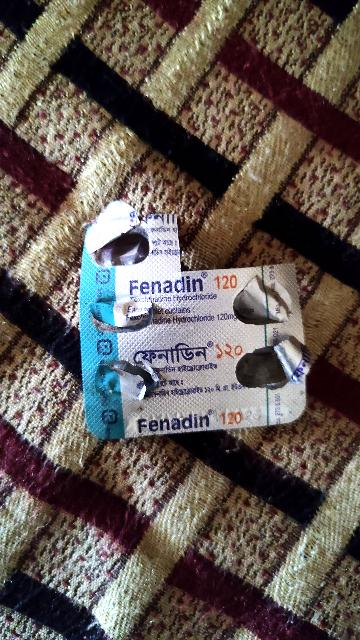medicine: (68, 205, 305, 448)
